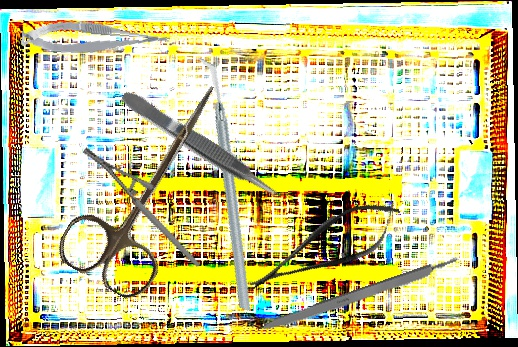Chopper: (135, 58, 314, 311)
Iris Scissors: (51, 58, 252, 307)
Micro Scissor: (238, 187, 411, 308), (20, 14, 171, 65)
Needle Holder: (80, 123, 201, 292)
Scalpel Handle: (256, 254, 462, 338)
Tissue Forceps: (118, 84, 284, 207)
